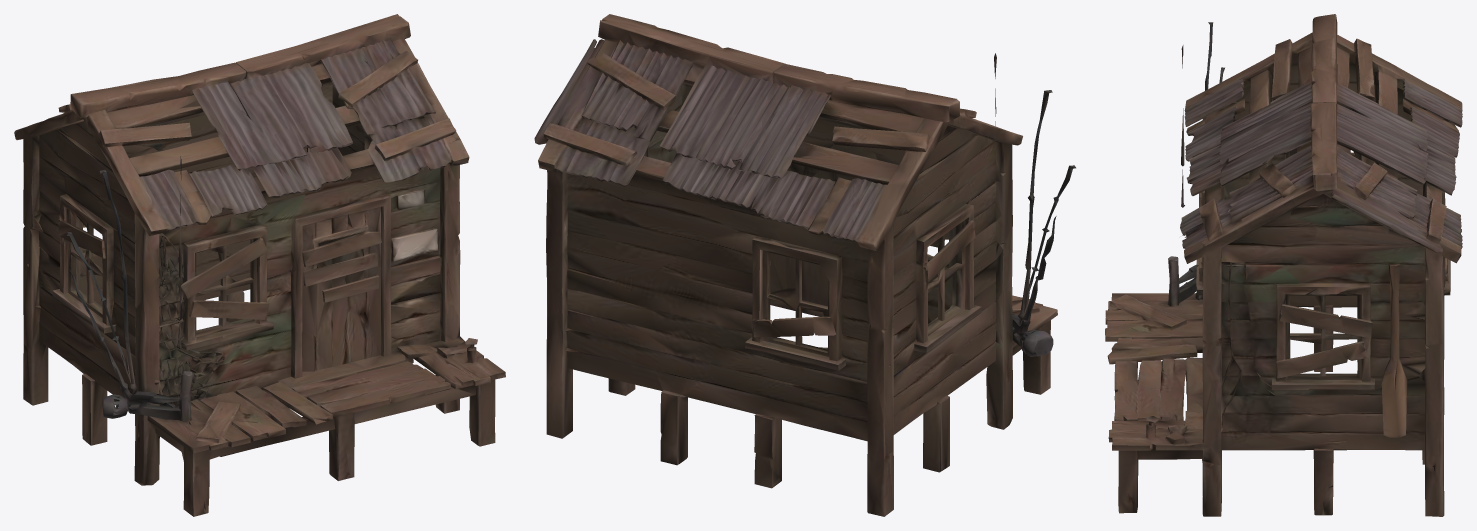
The model's file is fishing_shop_idle.glb.
3 renders of one model, left to right at view 1: azimuth 30°, elevation 25°; view 2: azimuth 150°, elevation 25°; view 3: azimuth 270°, elevation 25°, orthographic. The views are drawn at different scales.
Parts seen in each view (by area): view 1: tripo_node_4988a69b-083e-4cd3-a427-67862495de53; view 2: tripo_node_4988a69b-083e-4cd3-a427-67862495de53; view 3: tripo_node_4988a69b-083e-4cd3-a427-67862495de53.
Boxes of the visible parts, box(x1,y1,x2,y2) form: tripo_node_4988a69b-083e-4cd3-a427-67862495de53: box(14, 14, 505, 516); tripo_node_4988a69b-083e-4cd3-a427-67862495de53: box(534, 14, 1075, 516); tripo_node_4988a69b-083e-4cd3-a427-67862495de53: box(1105, 14, 1462, 516).
Size of the model in its own units: 8 by 6.66 by 6.23.
1 material, 1 textured.
